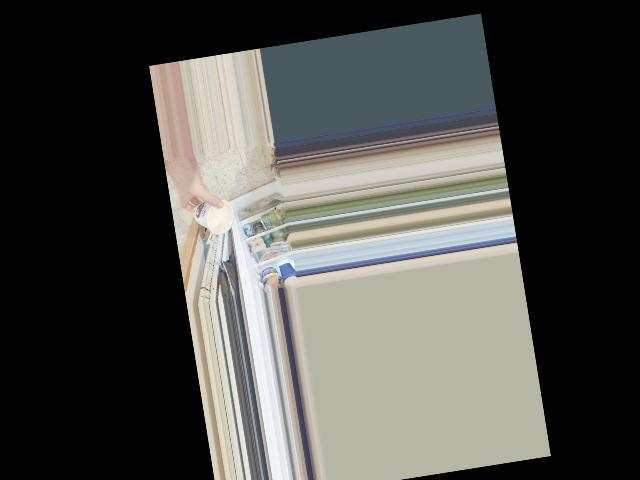cotage: (189, 194, 237, 238)
